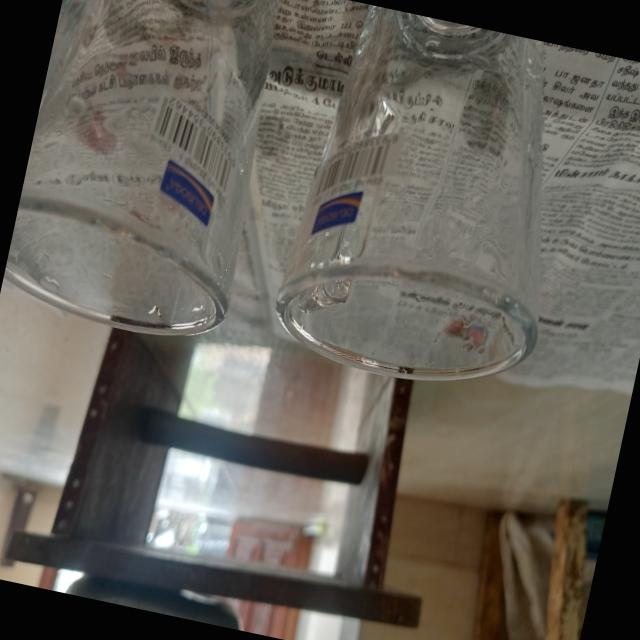glass-VX4N: (267, 0, 595, 402), (0, 0, 300, 357)
